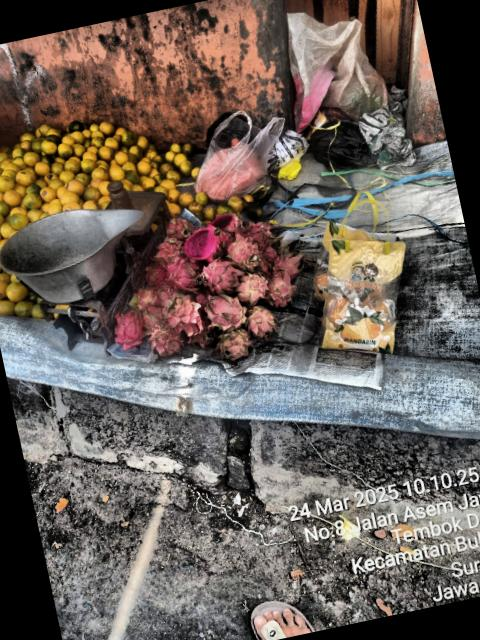buah-naga-belum-matang: (198, 286, 250, 334), (160, 289, 202, 335), (210, 324, 253, 364), (244, 302, 282, 342), (145, 323, 185, 361), (226, 231, 262, 272), (234, 269, 272, 306), (262, 269, 298, 305), (270, 249, 308, 280), (138, 303, 170, 332), (130, 283, 162, 309)
buah-naga-matang: (198, 256, 246, 294), (164, 258, 202, 294), (110, 310, 146, 348), (186, 319, 220, 349), (154, 236, 188, 264), (164, 213, 196, 242), (144, 262, 166, 284)
